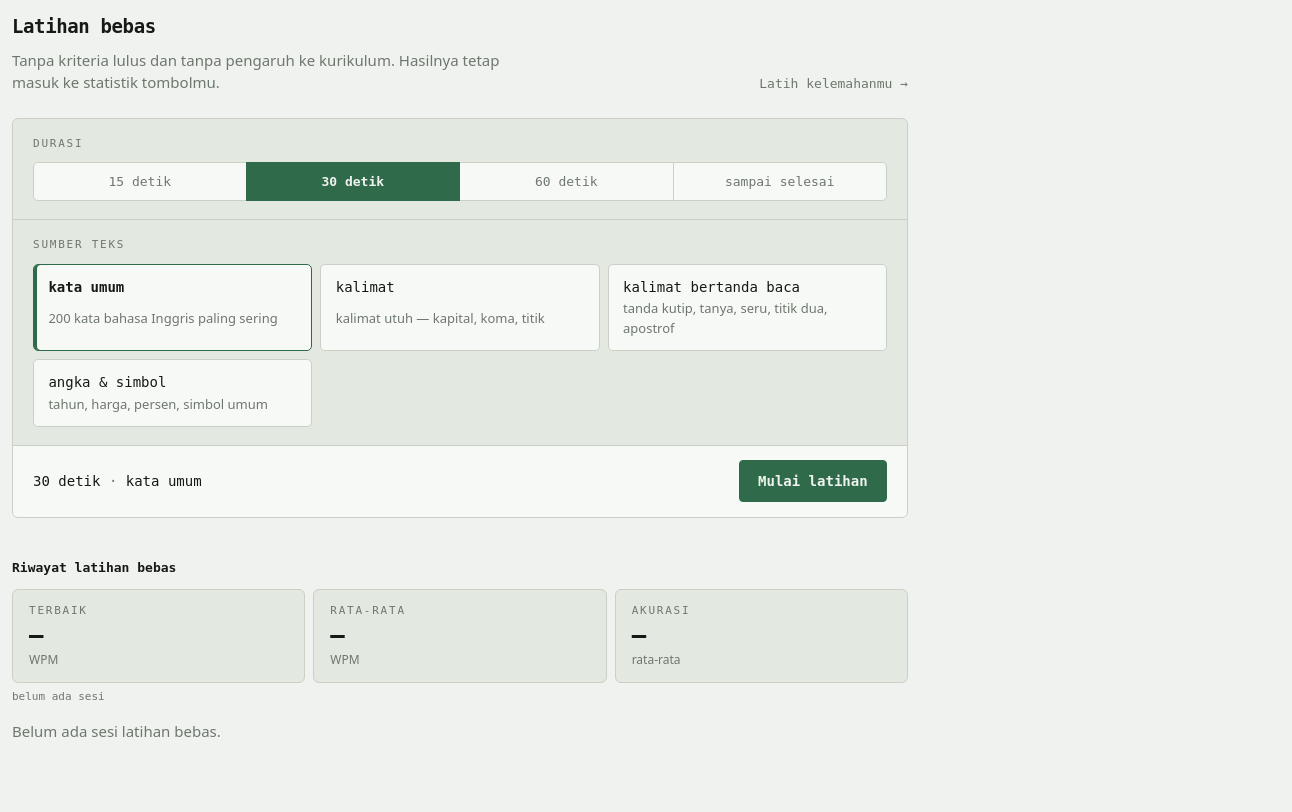
Scenario: mode input › default non-strict di /practice (ADR-029)
The image size is (1292, 812).
What coordinates should you click on to do the following:
click the button "15 detik"
I would click on:
 (140, 182)
Its box is [33,162,246,201].
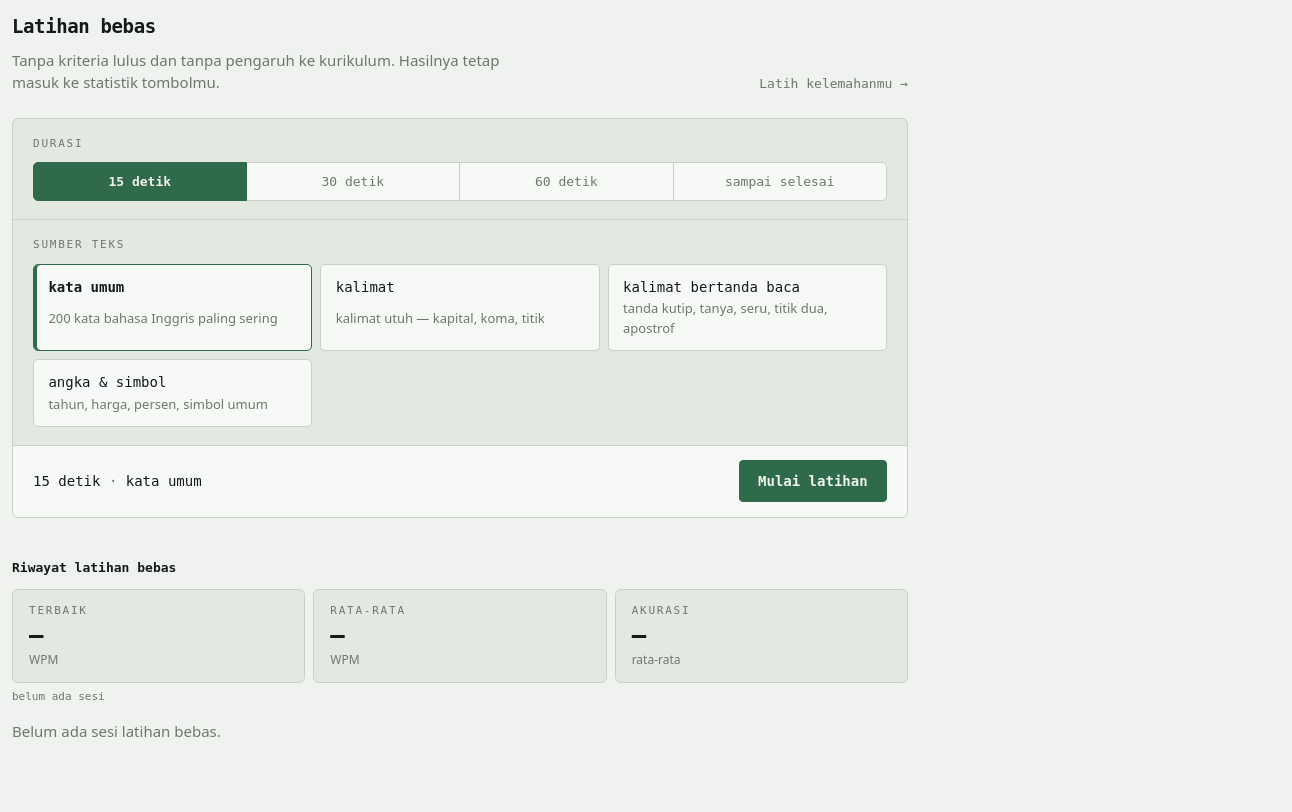
What coordinates should you click on to do the following:
click the button "Mulai latihan"
I would click on:
 (813, 481)
Its box is [739,460,887,502].
Wait 10 ms
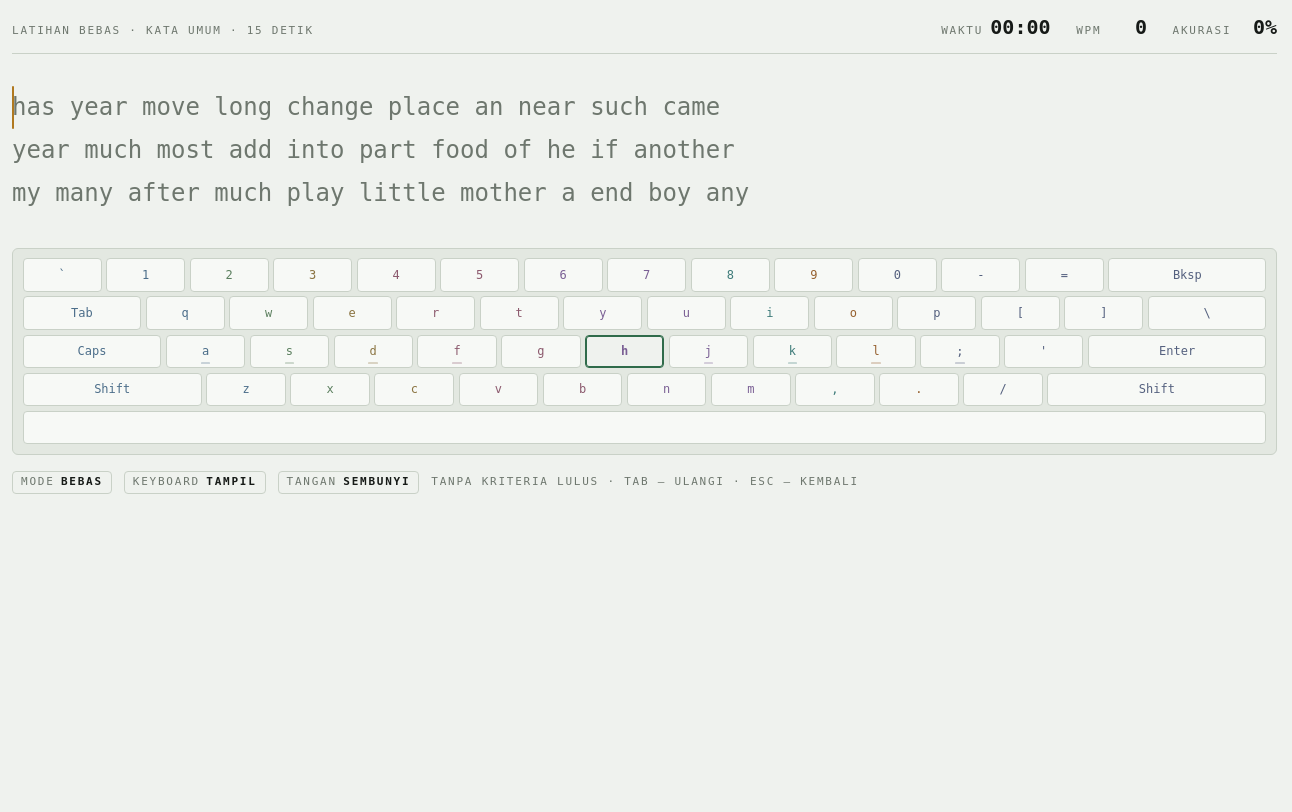
Expected: the button "mode bebas" is shown, [12,471,112,494]
